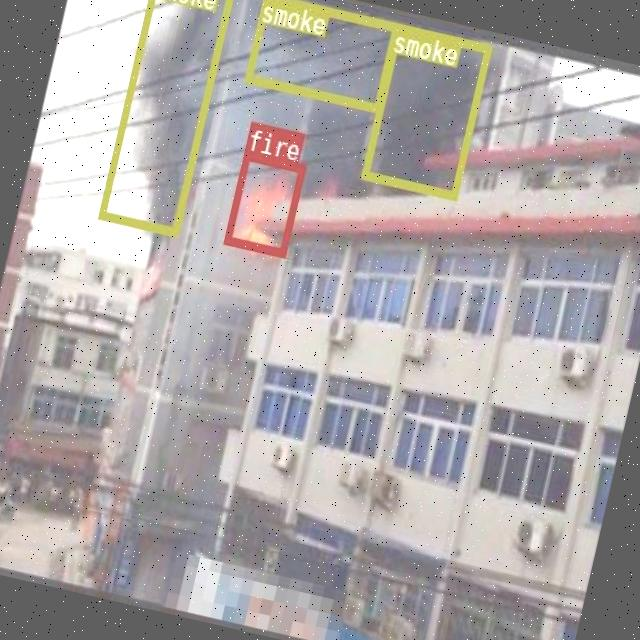fire: (222, 150, 305, 257)
smoke: (96, 0, 234, 234), (360, 21, 490, 198), (243, 0, 398, 111)
